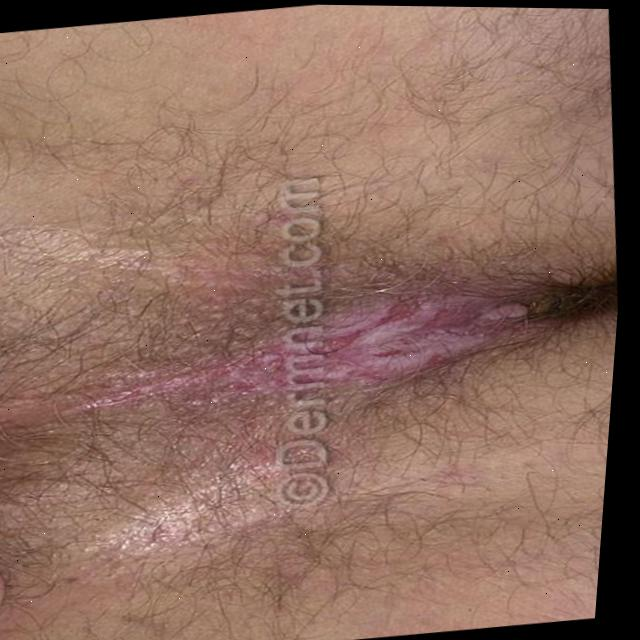Eczema: (55, 286, 463, 448), (80, 466, 278, 568), (90, 231, 272, 298)
